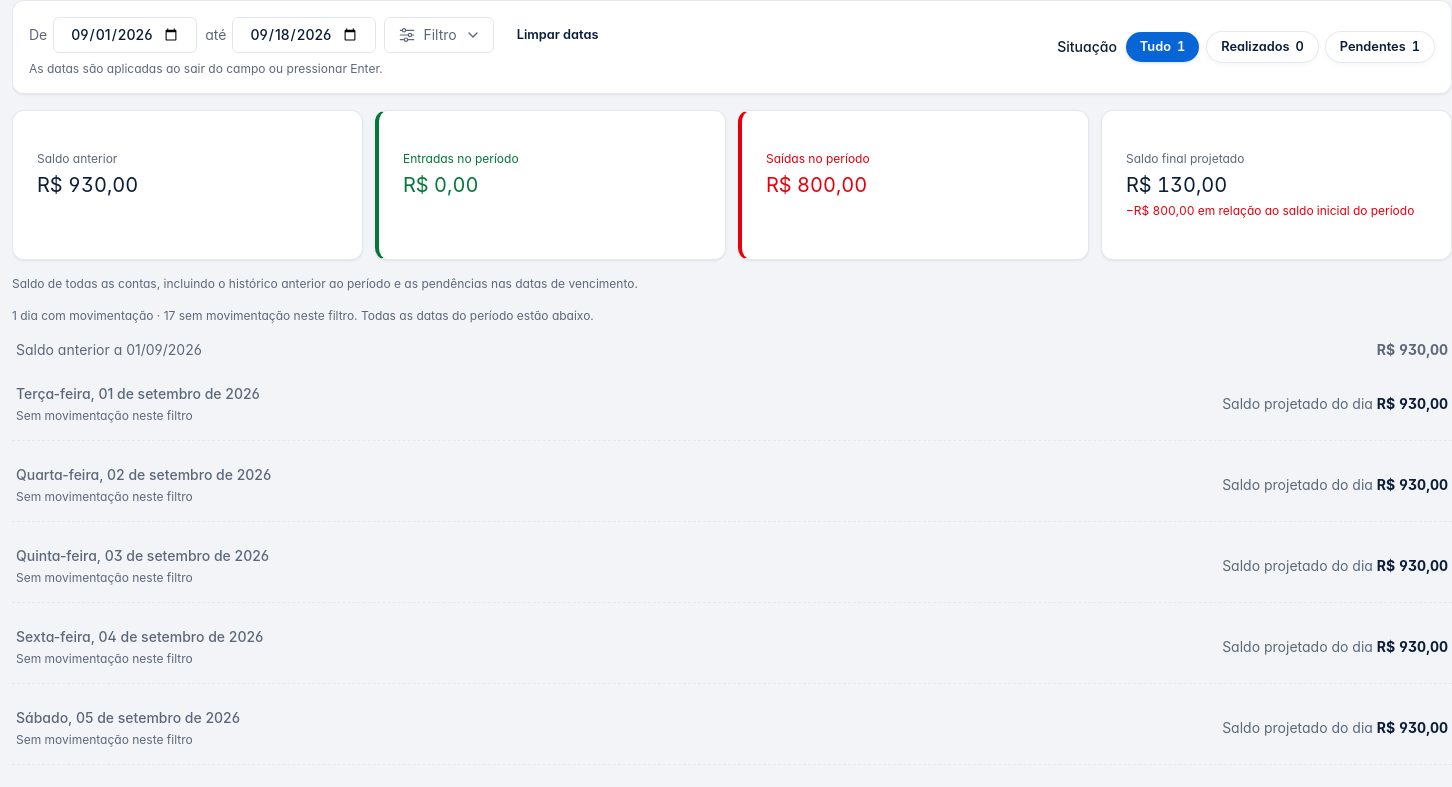
Test: limpar datas inclui o histórico fora do mês inicial e preserva o saldo
Expected: the text "Despesa antiga" is not shown
Click the button "Limpar datas". click: click(558, 35)
box: left=502, top=17, right=614, bottom=53
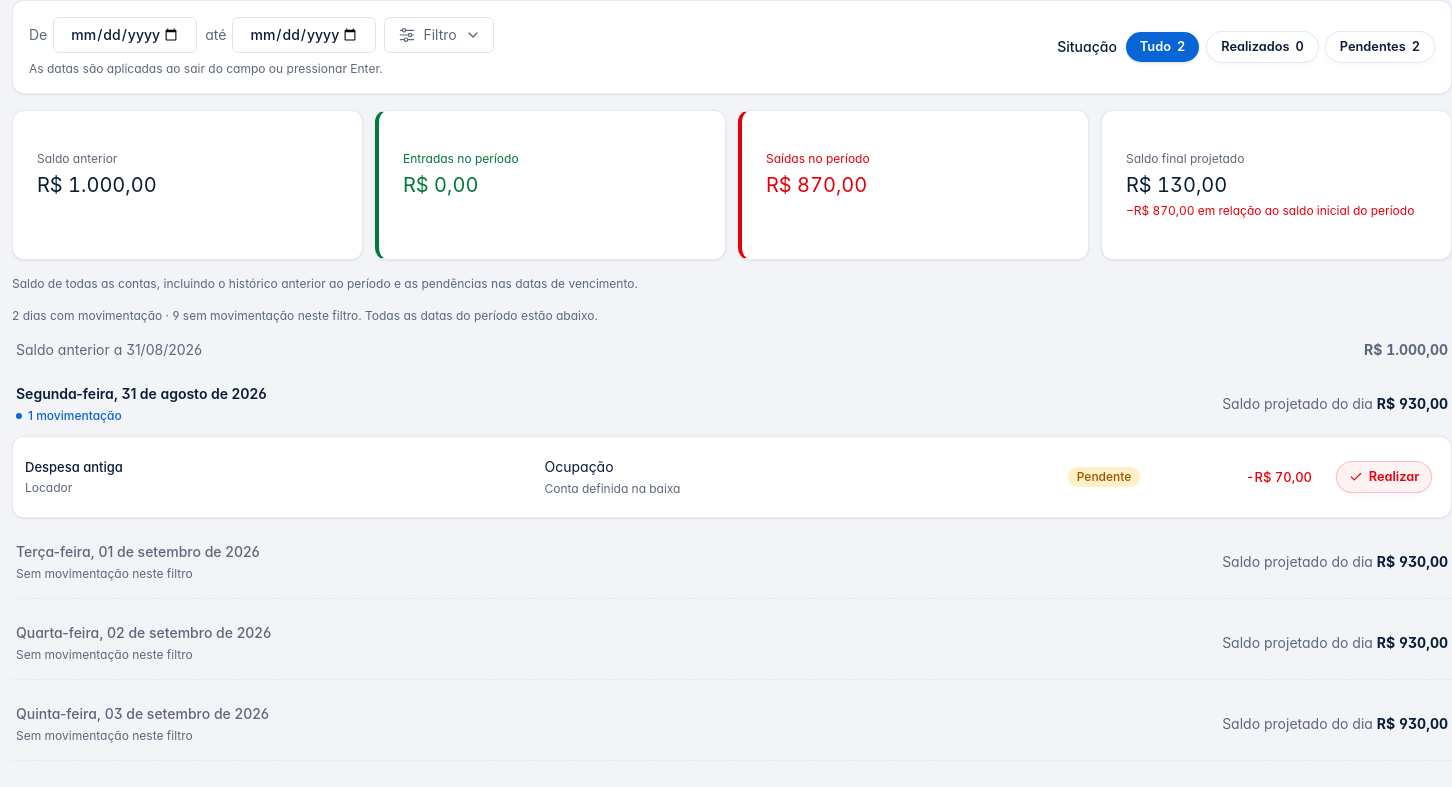
Expected: the text "R$ 130,00" is shown, left=1126, top=173, right=1227, bottom=197
Result: the text "Despesa antiga" is shown at left=25, top=459, right=123, bottom=475
Result: the date field labelled "De" is empty at left=53, top=17, right=197, bottom=53
